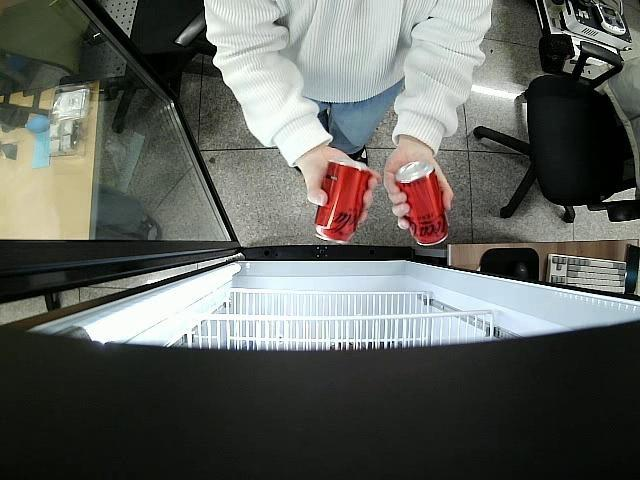11_cocaColaZero: (392, 157, 452, 248), (310, 159, 372, 244)
